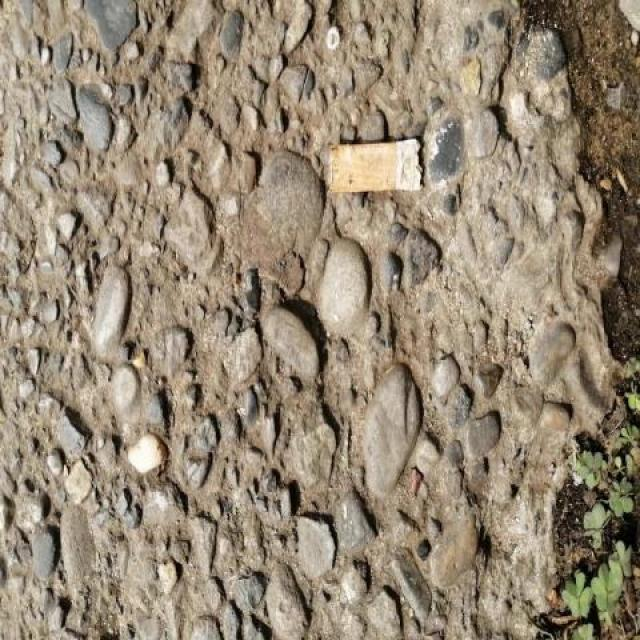non-organic waste: (323, 126, 428, 202)
